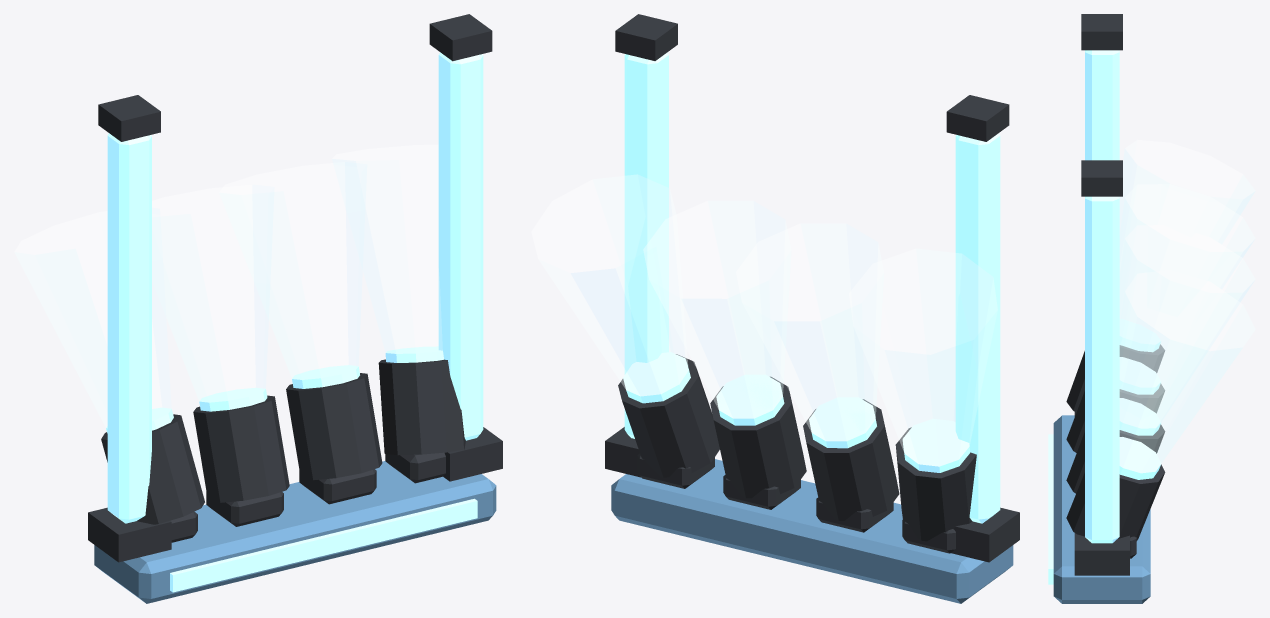
File: poster_m2_2.glb
3 views of the same model, side by side, from view 1: azimuth 30°, elevation 25°; view 2: azimuth 150°, elevation 25°; view 3: azimuth 270°, elevation 25° (orthographic). The views are drawn at different scales.
Visible parts, largest first — view 1: poster_m2_2_mesh; view 2: poster_m2_2_mesh; view 3: poster_m2_2_mesh.
Part boxes in pixels (x1,y1,x2,y2): poster_m2_2_mesh: (14,14,502,603); poster_m2_2_mesh: (531,14,1019,603); poster_m2_2_mesh: (1048,14,1255,603).
Bounding box in the file's own units: 0.6732 × 0.69 × 0.2999.
